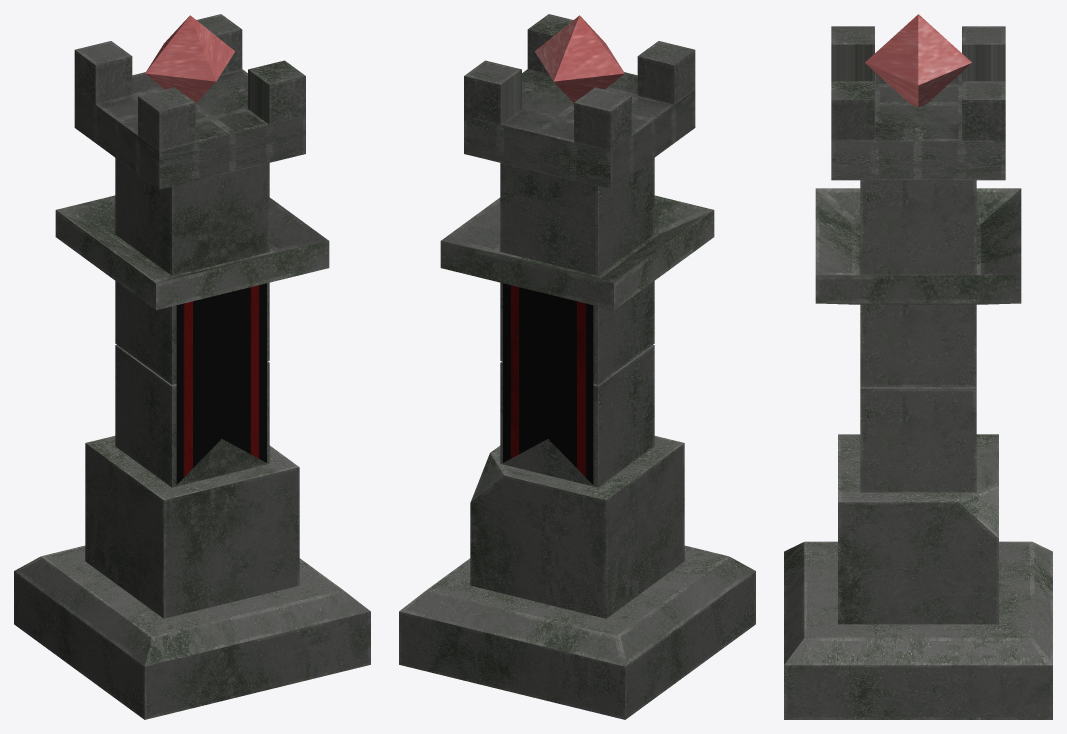
The model's file is Stone King.fbx.
3 views of the same model, side by side, from view 1: azimuth 30°, elevation 25°; view 2: azimuth 150°, elevation 25°; view 3: azimuth 270°, elevation 25° (orthographic). The views are drawn at different scales.
Visible parts, largest first — view 1: Stone_King; view 2: Stone_King; view 3: Stone_King.
Part boxes in pixels (x1,y1,x2,y2): Stone_King: [14, 14, 370, 719]; Stone_King: [399, 14, 755, 719]; Stone_King: [784, 14, 1052, 719].
Bounding box in the file's own units: 110 × 293 × 110.
1 material, 1 textured.
